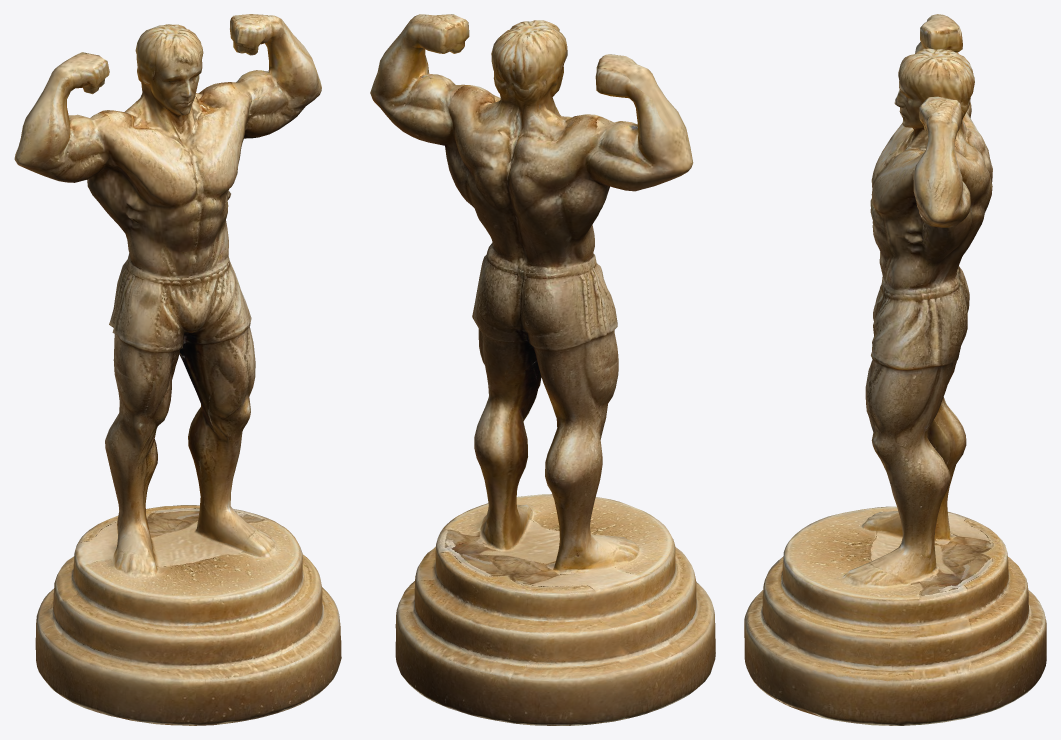
File: draw_statue1_gold.glb
3 views of the same model, side by side, from view 1: azimuth 30°, elevation 25°; view 2: azimuth 150°, elevation 25°; view 3: azimuth 270°, elevation 25° (orthographic). The views are drawn at different scales.
Visible parts, largest first — view 1: texture_mapping; view 2: texture_mapping; view 3: texture_mapping.
Boxes of the visible parts, x1,y1,x2,y2 form: texture_mapping: (14, 14, 341, 725); texture_mapping: (370, 14, 715, 725); texture_mapping: (744, 14, 1046, 725).
Size of the model in its own units: 0.5146 by 1 by 0.4494.
Materials: 1 (1 with a texture image).
